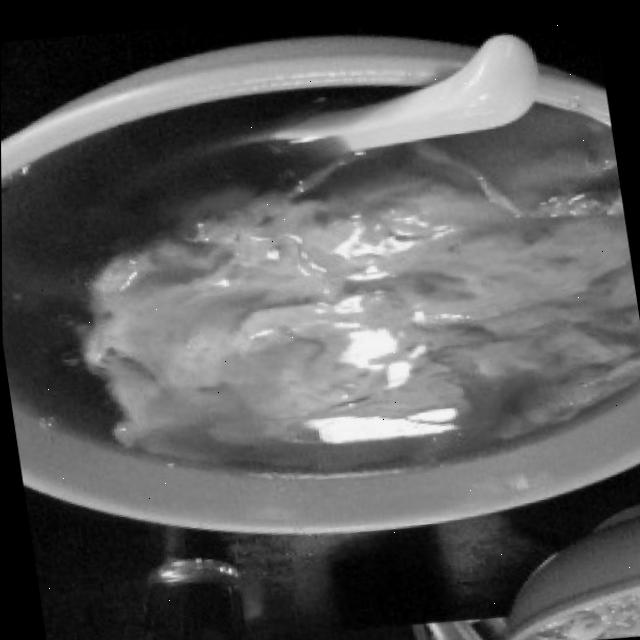面条主食: (0, 17, 640, 529)
